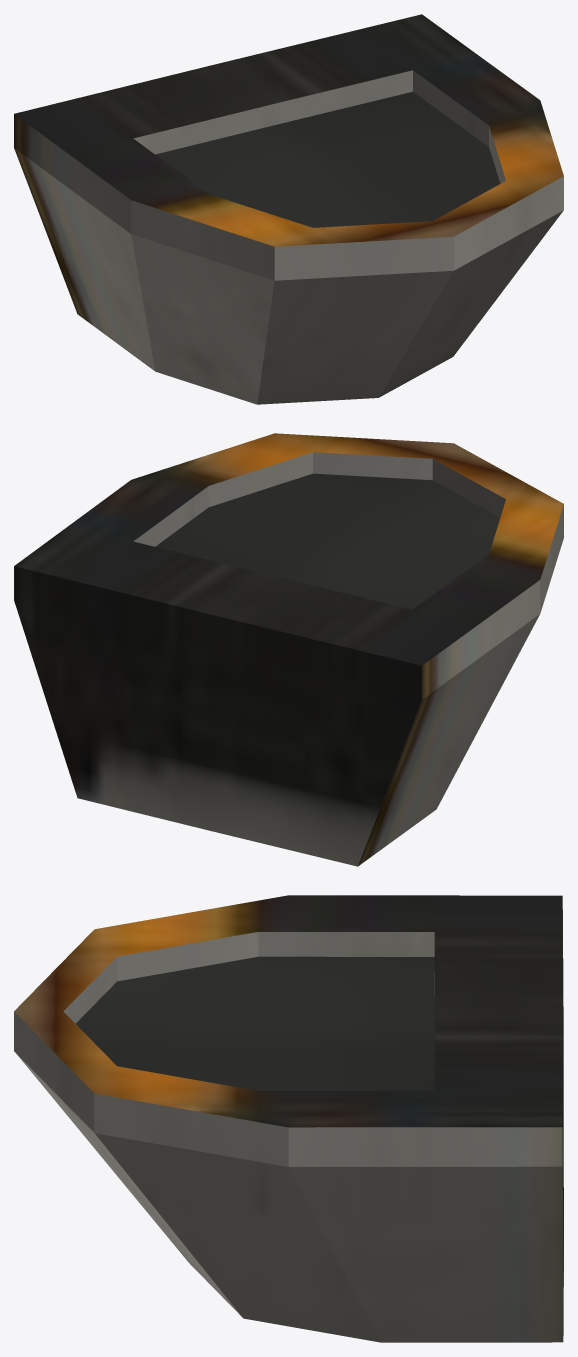
Rendered from toilet.glb.
3 views of the same model, one above another, from view 1: azimuth 30°, elevation 25°; view 2: azimuth 150°, elevation 25°; view 3: azimuth 270°, elevation 25° (orthographic). The views are drawn at different scales.
Visible parts, largest first — view 1: Toilet; view 2: Toilet; view 3: Toilet.
Part boxes in pixels (x1=…): Toilet: x1=14, y1=14, x2=563, y2=404; Toilet: x1=14, y1=433, x2=563, y2=866; Toilet: x1=14, y1=895, x2=563, y2=1342.
Size of the model in its own units: 1.2 by 0.606 by 1.2.
Materials: 1 (1 with a texture image).
